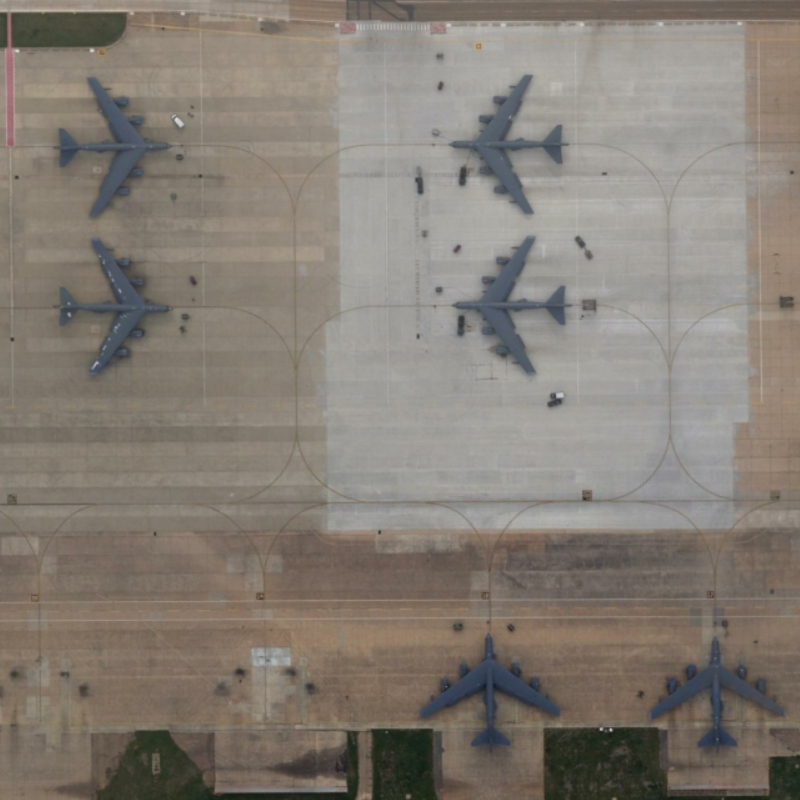A8: (406, 619, 565, 757), (45, 66, 181, 225), (47, 229, 182, 388), (441, 224, 575, 383), (443, 68, 572, 219), (643, 633, 792, 757)
